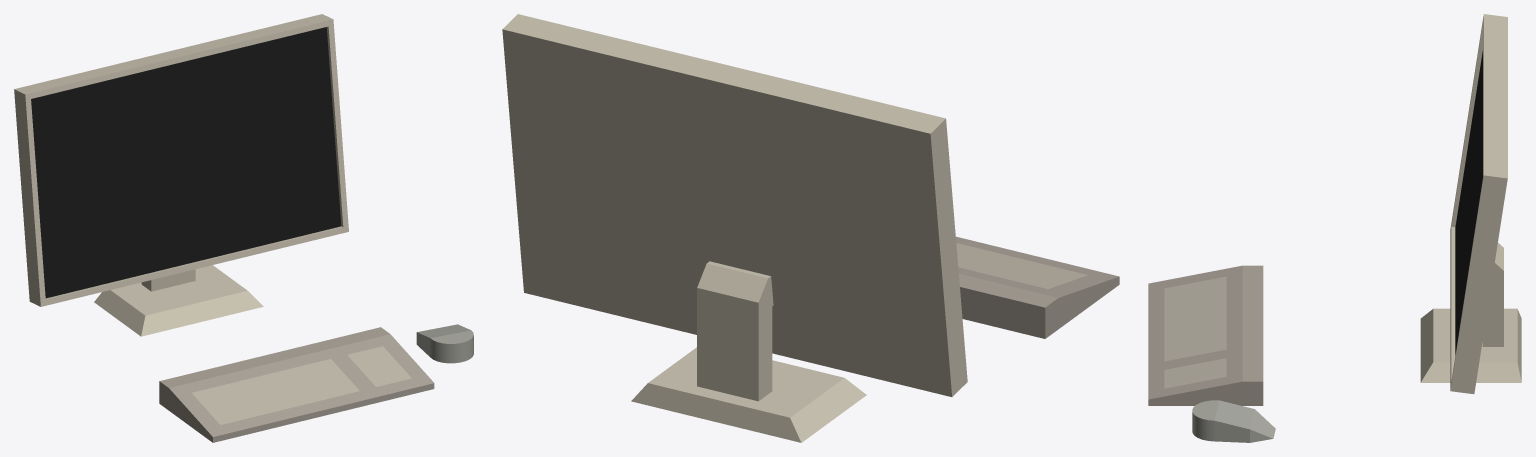
The model's file is computah.glb.
3 views of the same model, side by side, from view 1: azimuth 30°, elevation 25°; view 2: azimuth 150°, elevation 25°; view 3: azimuth 270°, elevation 25° (orthographic). The views are drawn at different scales.
Visible parts, largest first — view 1: computerScreen(Clone), computerKeyboard(Clone), computerMouse(Clone); view 2: computerScreen(Clone), computerKeyboard(Clone); view 3: computerScreen(Clone), computerKeyboard(Clone), computerMouse(Clone).
Boxes of the visible parts, x1=… form: computerScreen(Clone): x1=14, y1=14, x2=348, y2=336; computerKeyboard(Clone): x1=159, y1=327, x2=434, y2=442; computerMouse(Clone): x1=416, y1=324, x2=473, y2=363; computerScreen(Clone): x1=502, y1=14, x2=967, y2=442; computerKeyboard(Clone): x1=956, y1=236, x2=1119, y2=338; computerScreen(Clone): x1=1420, y1=14, x2=1521, y2=394; computerKeyboard(Clone): x1=1148, y1=265, x2=1263, y2=405; computerMouse(Clone): x1=1192, y1=400, x2=1275, y2=442.
Bounding box in the file's own units: 0.4124 × 0.2943 × 0.384.
